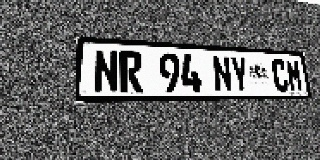4: (180, 54, 202, 92)
9: (159, 53, 181, 93)
C: (271, 59, 290, 92)
M: (285, 59, 304, 92)
N: (93, 49, 119, 93), (212, 55, 233, 92)
R: (119, 51, 143, 93)
Y: (230, 56, 250, 92)
